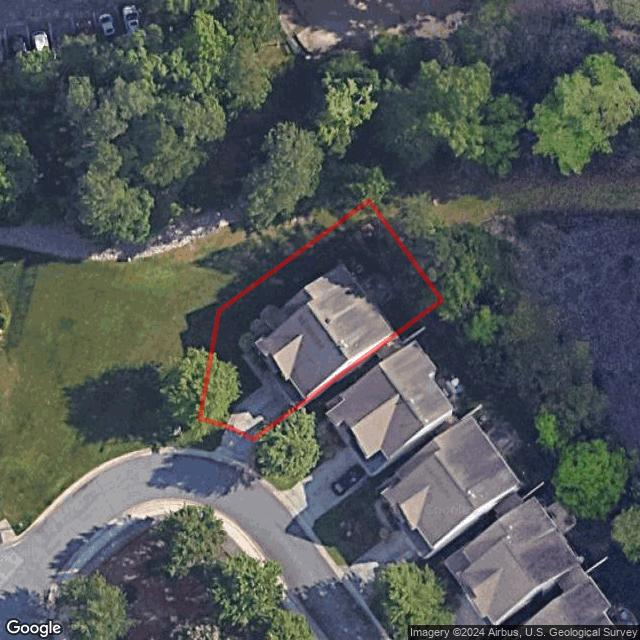Driveway: (225, 373, 303, 439)
Extra-Driveway: (214, 426, 254, 464)
Extra-Lawn: (186, 416, 226, 452)
House: (255, 263, 394, 400)
Lawn: (200, 200, 443, 440)
Other: (236, 307, 288, 351)
Sidewalk: (241, 345, 272, 385)
